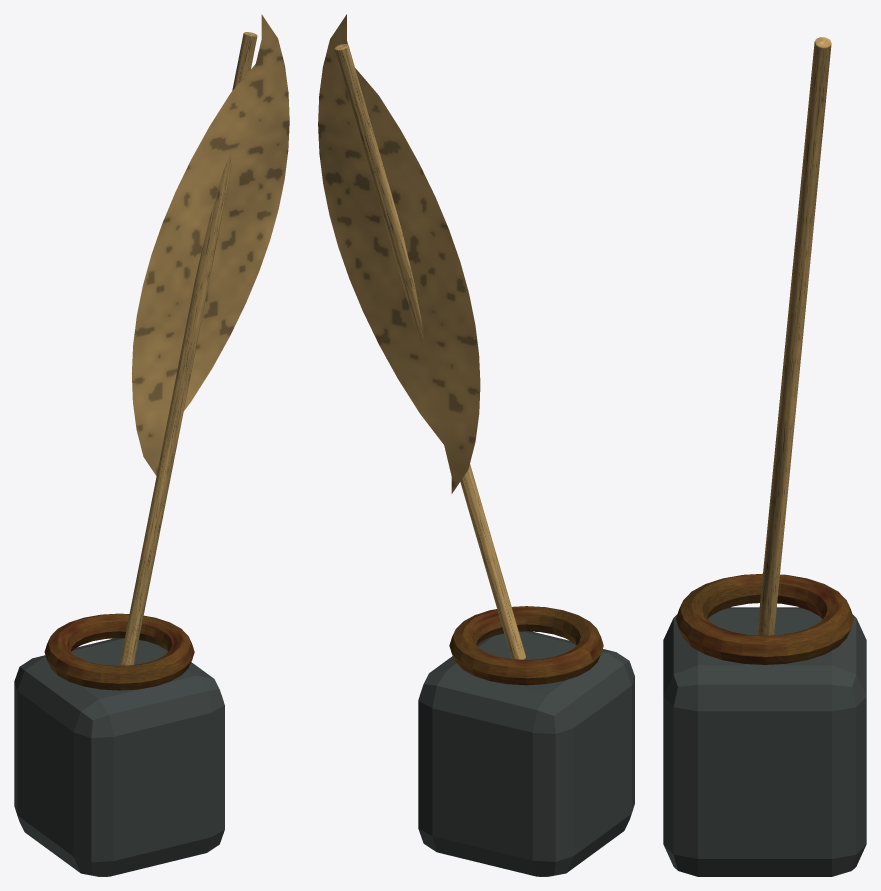
The picture shows the model from 3 angles, left to right: view 1: azimuth 30°, elevation 25°; view 2: azimuth 150°, elevation 25°; view 3: azimuth 270°, elevation 25°; orthographic projection. The views are drawn at different scales.
Parts seen in each view (by area): view 1: Inkpot_body, Split_quill_feather, Feather_shaft, Inkpot_brass_rim; view 2: Inkpot_body, Split_quill_feather, Inkpot_brass_rim, Feather_shaft; view 3: Inkpot_body, Feather_shaft, Inkpot_brass_rim.
Boxes of the visible parts, x1,y1,x2,y2 form: Inkpot_body: (14, 638, 224, 876); Split_quill_feather: (132, 14, 289, 475); Feather_shaft: (120, 32, 257, 665); Inkpot_brass_rim: (44, 613, 194, 690); Inkpot_body: (418, 631, 634, 876); Split_quill_feather: (318, 14, 480, 493); Inkpot_brass_rim: (449, 606, 603, 685); Feather_shaft: (334, 44, 525, 659); Inkpot_body: (663, 607, 866, 876); Feather_shaft: (757, 37, 831, 635); Inkpot_brass_rim: (676, 573, 853, 664).
Bounding box in the file's own units: 0.1843 × 0.527 × 0.105.
3 materials, 2 textured.
